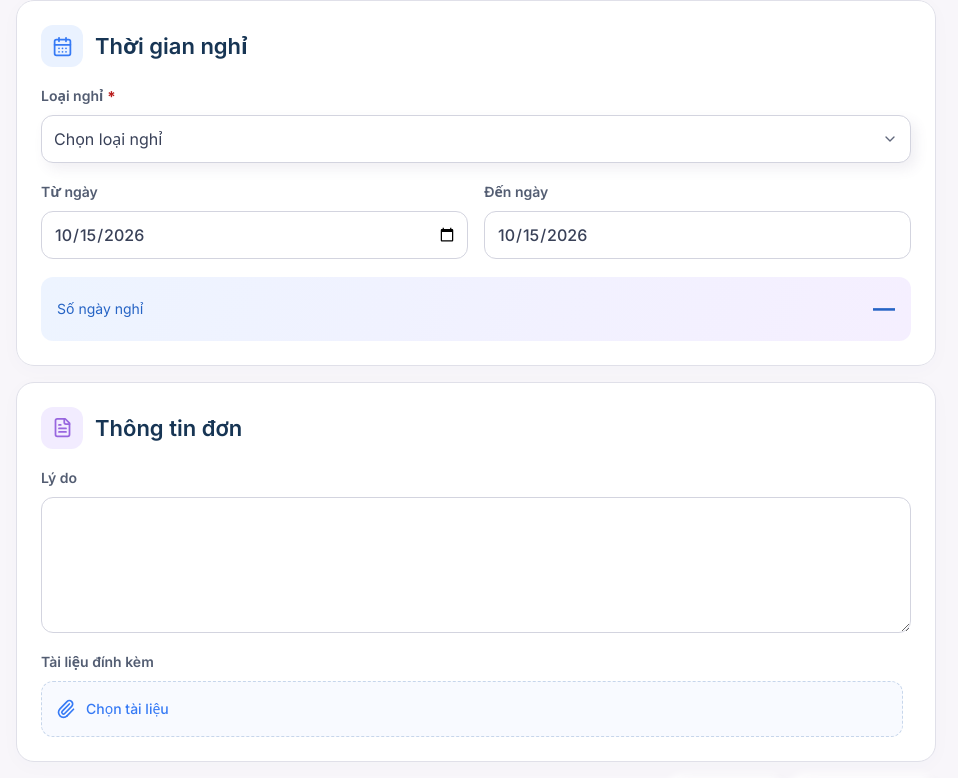
Test: leave request form compact date controls › shows one session control for a single day
The image size is (958, 778).
Click the dropdown labelled "loại nghỉ" at (108, 139), box [41, 115, 911, 163]
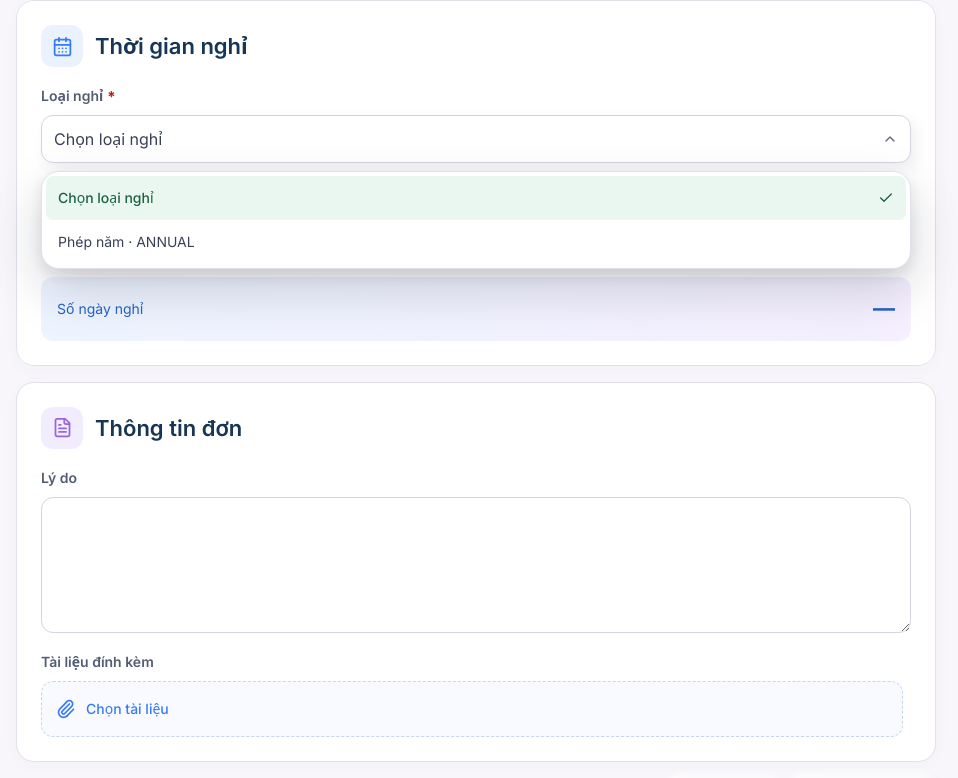
Click the option "Phép năm · ANNUAL" at (126, 241), box [58, 233, 195, 250]
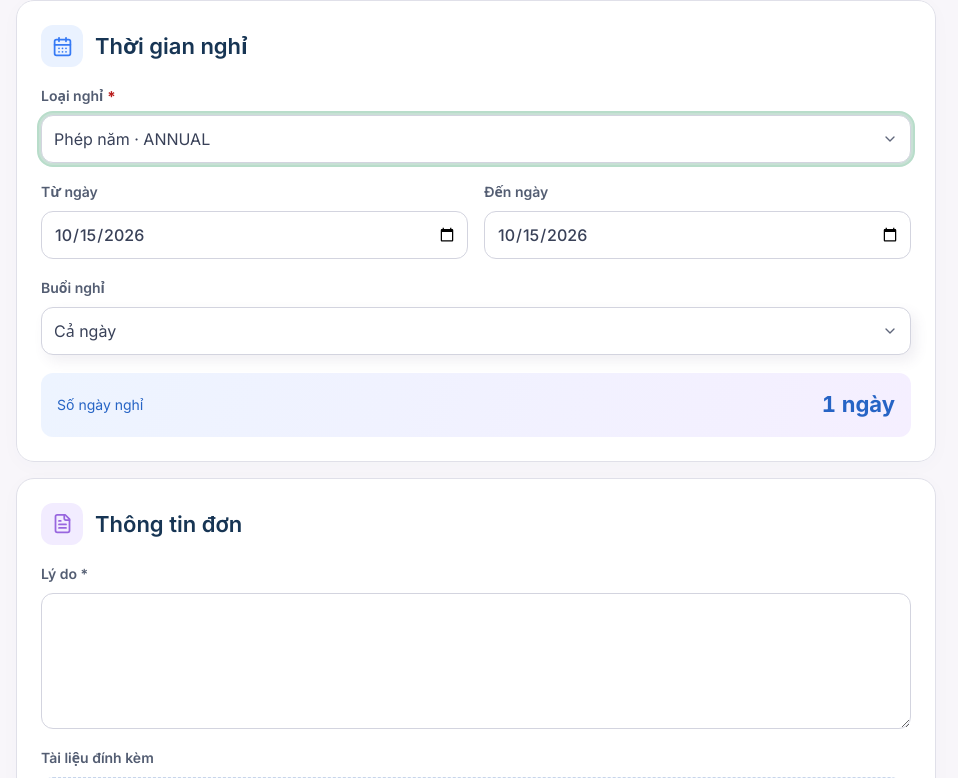
Check: the dropdown named "Buổi nghỉ" is shown, box [41, 307, 911, 355]
